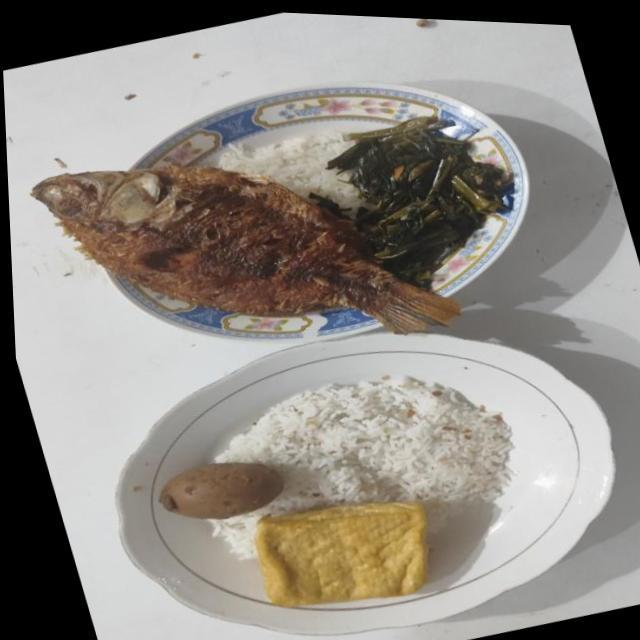ikan_mujair: (32, 166, 460, 334)
nasi_putih: (213, 376, 513, 558), (218, 131, 364, 216)
tahu_goreng: (254, 501, 427, 606)
tumis_kangkung: (326, 117, 514, 290)
